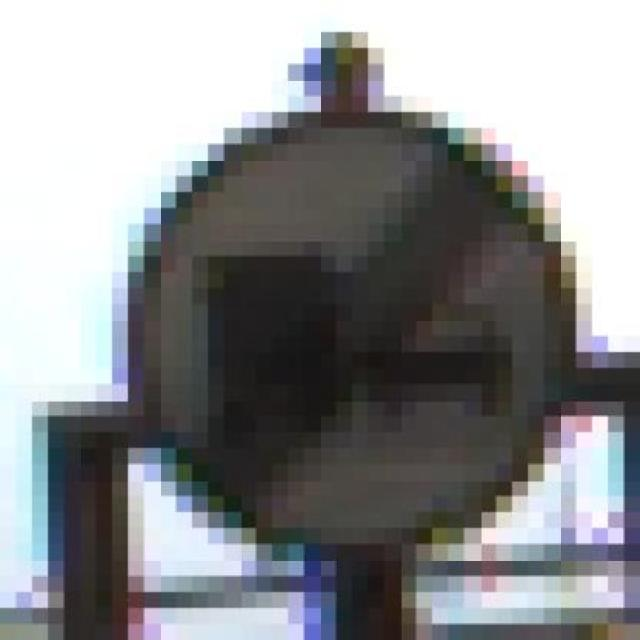Overtaking by trucks is prohibited: (96, 80, 624, 625)
